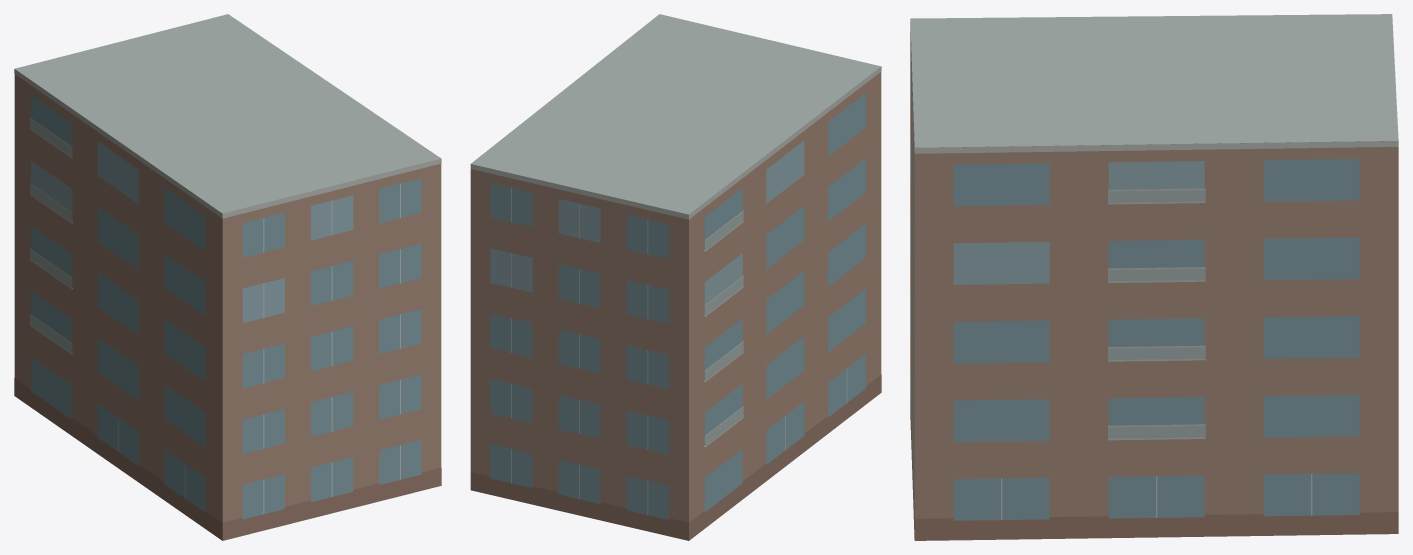
File: survey-upis-32768006.glb
3 renders of one model, left to right at view 1: azimuth 30°, elevation 25°; view 2: azimuth 150°, elevation 25°; view 3: azimuth 270°, elevation 25°, orthographic. The views are drawn at different scales.
Visible parts, largest first — view 1: survey-upis-32768006.tmp; view 2: survey-upis-32768006.tmp; view 3: survey-upis-32768006.tmp.
Part boxes in pixels (x1,y1,x2,y2): survey-upis-32768006.tmp: (14,14,441,540); survey-upis-32768006.tmp: (470,14,881,540); survey-upis-32768006.tmp: (910,14,1398,540).
Bounding box in the file's own units: 11.67 × 15.97 × 17.99.
